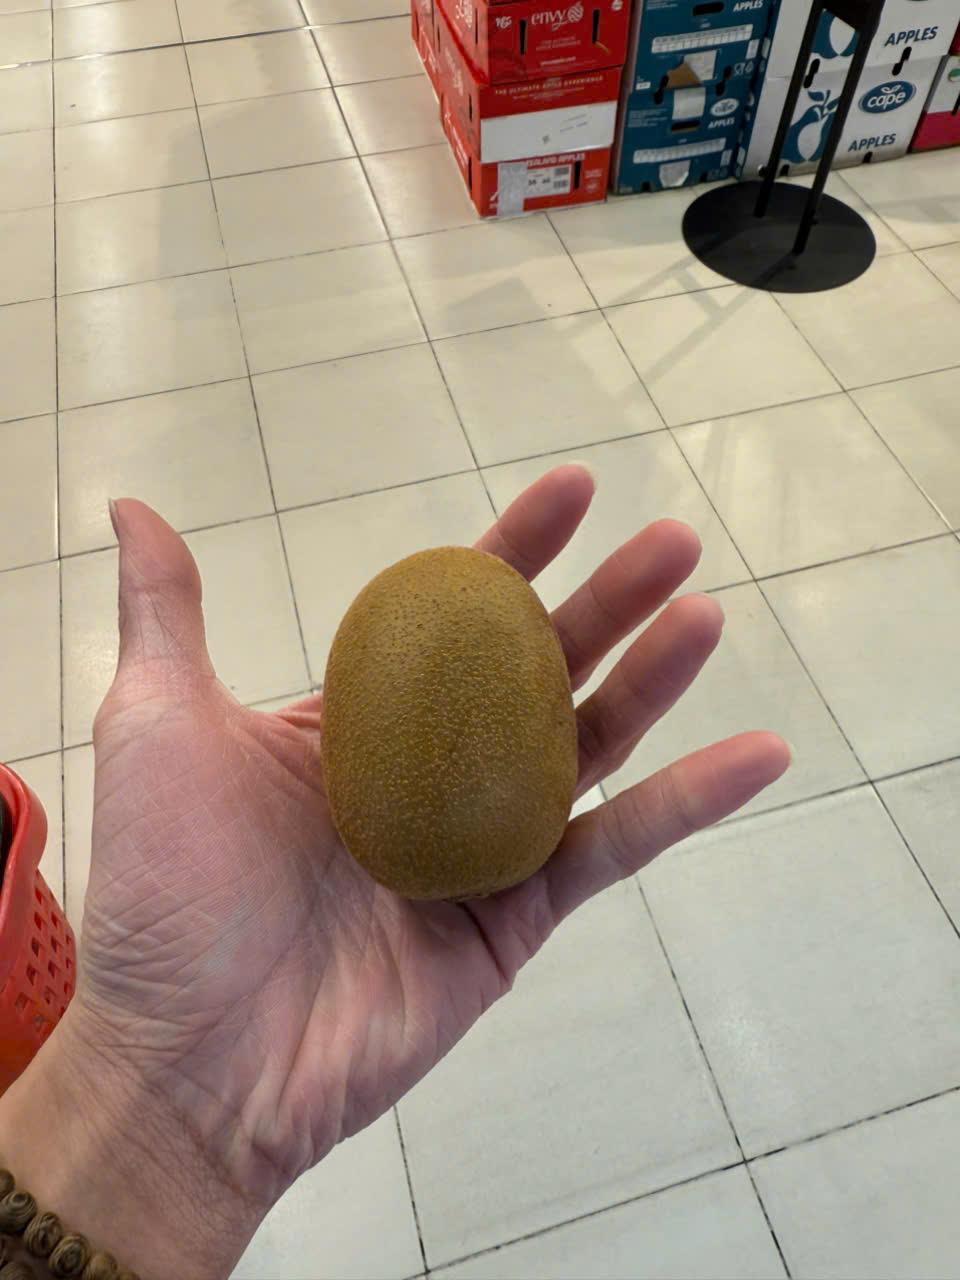kiwi: (310, 540, 574, 910)
